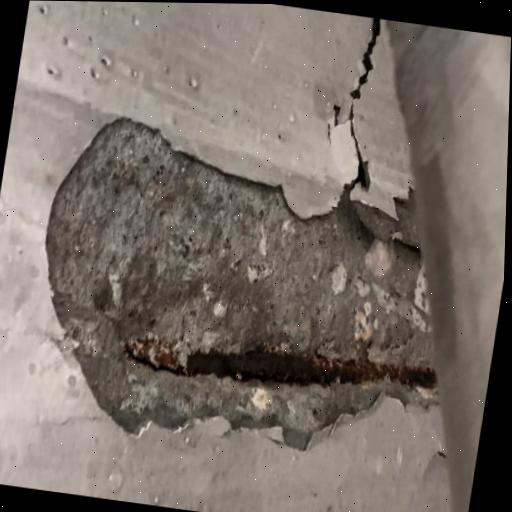exposed_rebar: (158, 349, 436, 390), (137, 359, 155, 367)
spalling: (46, 118, 436, 449)
